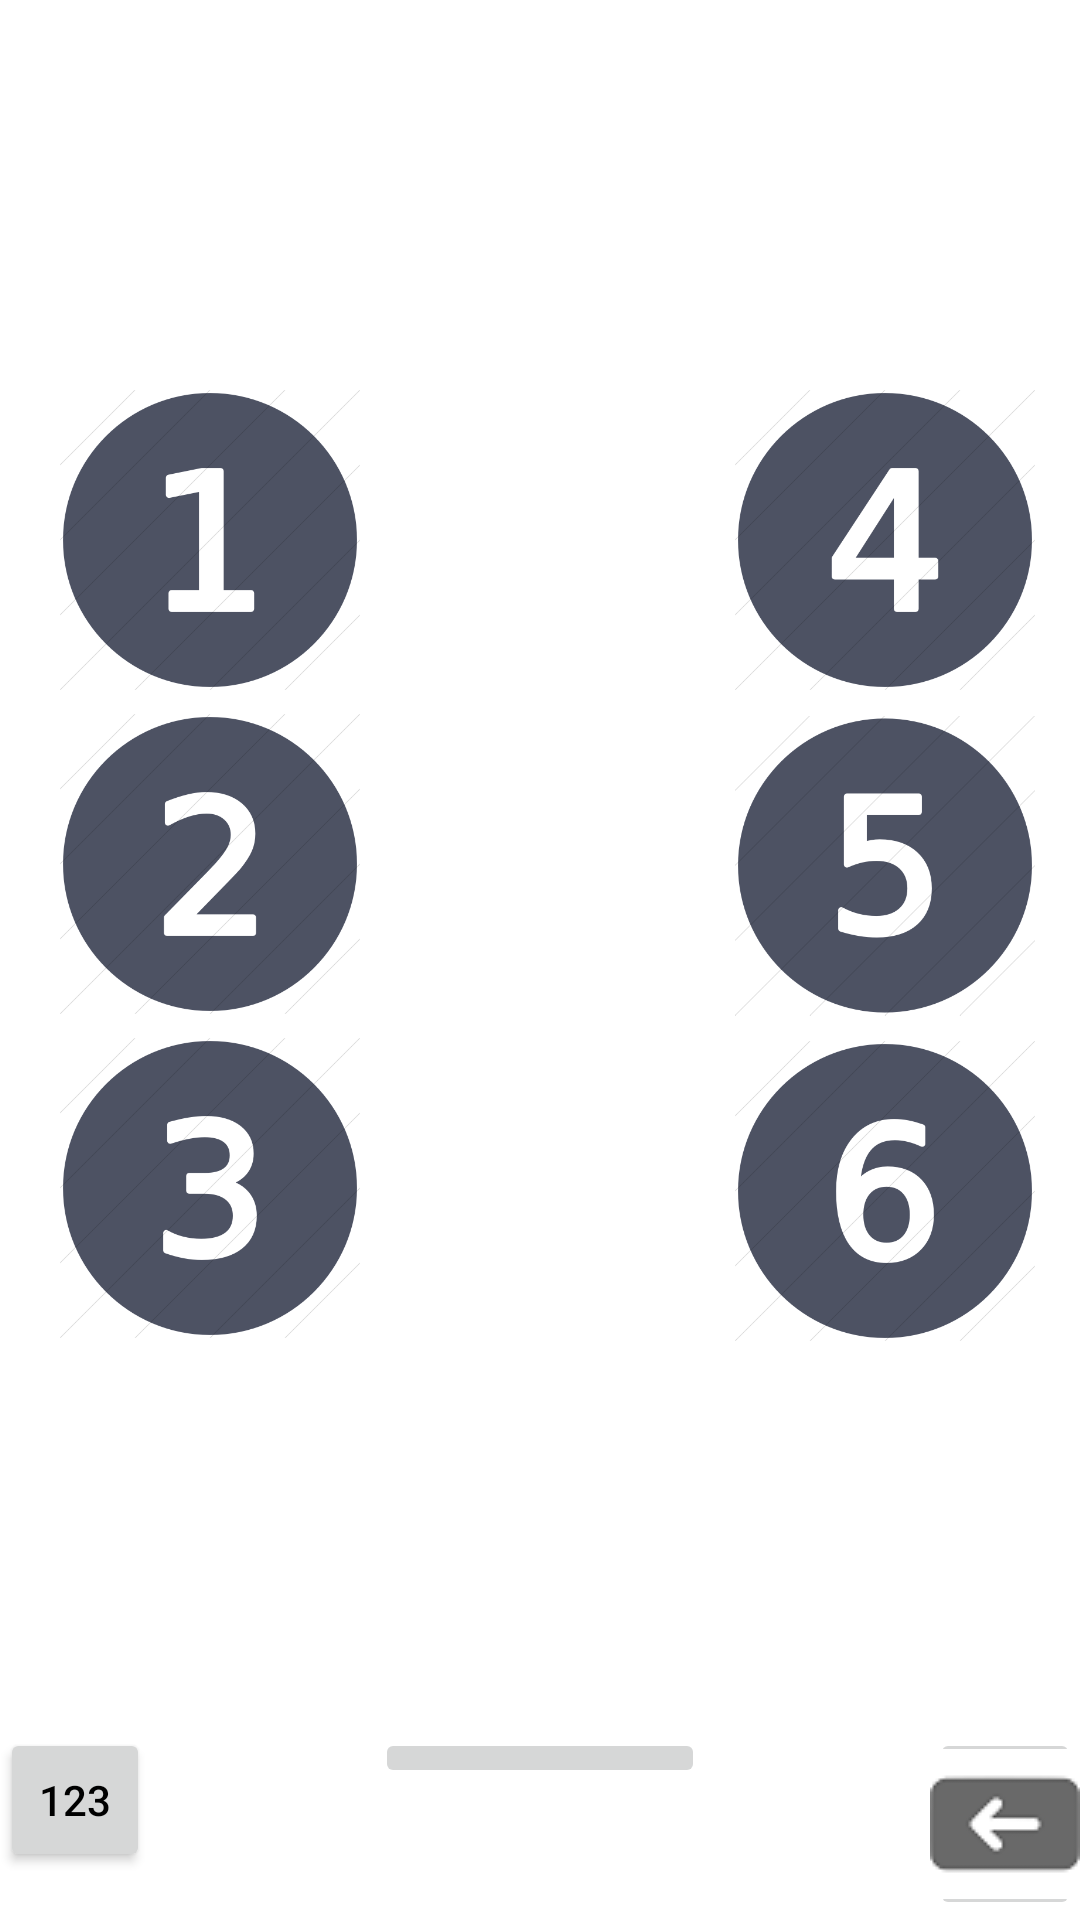

Where to tap for icons on this 1080 × 1920 app screen, as (x,y):
back: (1005,1824)
